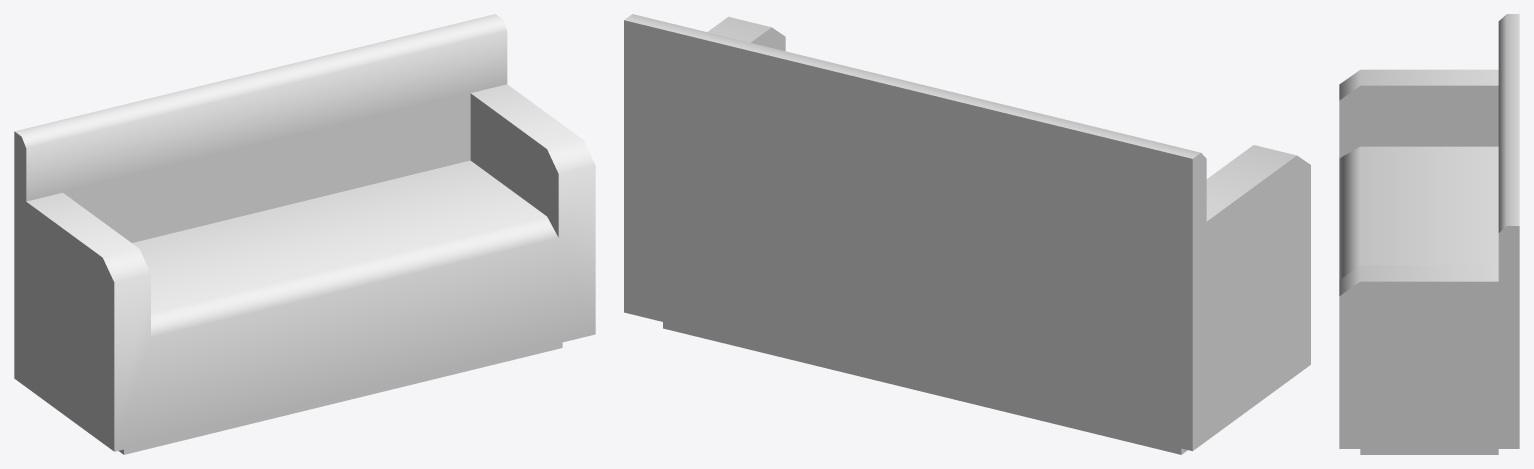
Rendered from Furn_Couch.fbx.
The picture shows the model from 3 angles, left to right: view 1: azimuth 30°, elevation 25°; view 2: azimuth 150°, elevation 25°; view 3: azimuth 270°, elevation 25°; orthographic projection. The views are drawn at different scales.
Visible parts, largest first — view 1: Furn_Couch; view 2: Furn_Couch; view 3: Furn_Couch.
Boxes of the visible parts, box(x1,y1,x2,y2) form: Furn_Couch: box(14, 14, 595, 454); Furn_Couch: box(624, 14, 1310, 454); Furn_Couch: box(1339, 14, 1519, 454).
Size of the model in its own units: 2 by 1.05 by 0.7198.
